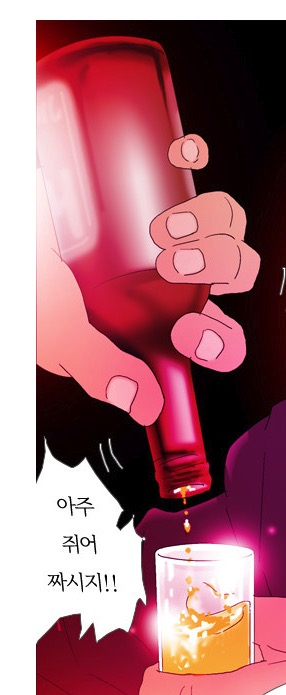beer: (151, 537, 261, 683)
cup: (154, 542, 259, 678)
